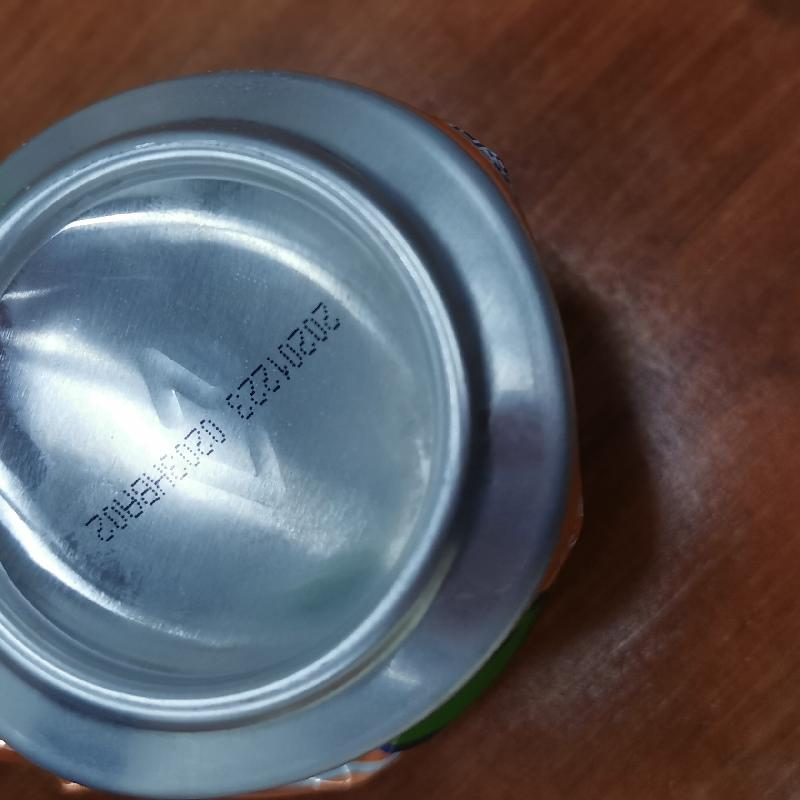cans: (3, 72, 585, 800)
